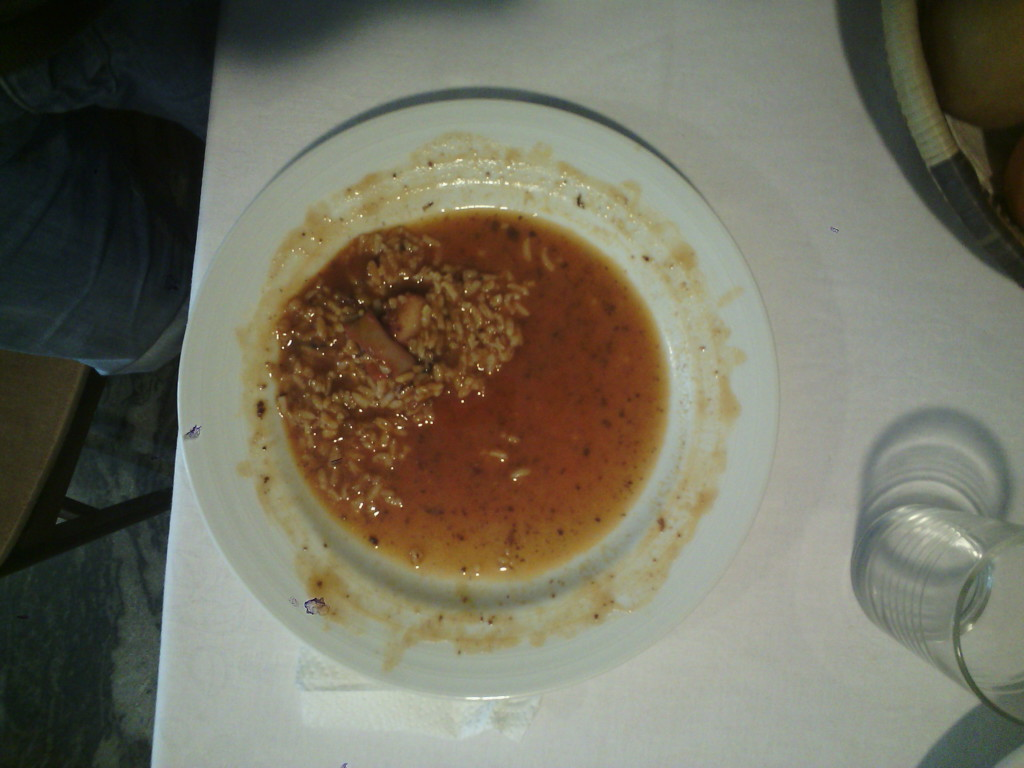21-40: (185, 99, 781, 703)
